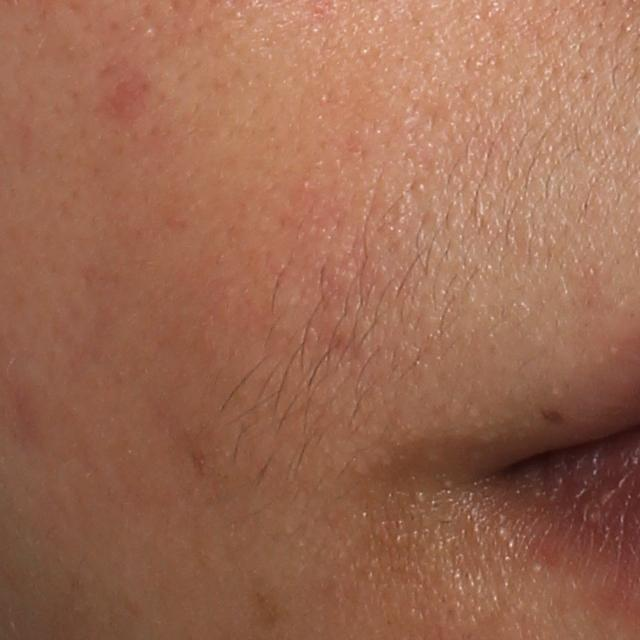nevus: (540, 402, 566, 425)
